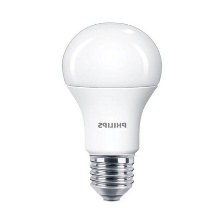light_bulb: (59, 17, 164, 202)
